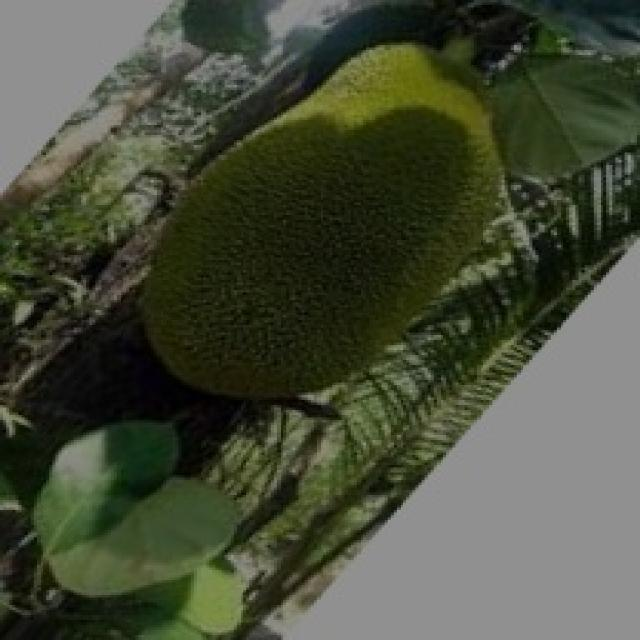Fruit: (126, 8, 542, 402)
